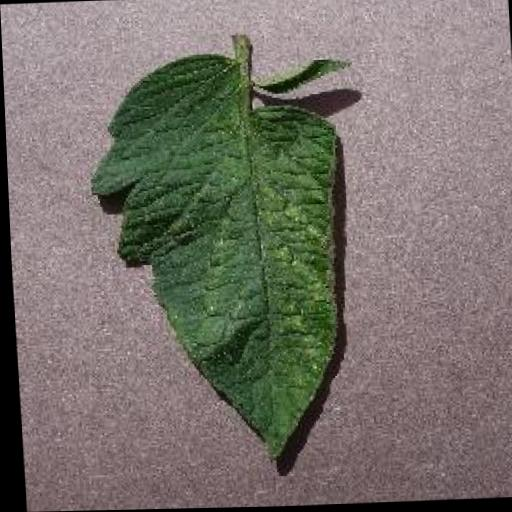Spider Mites: (84, 51, 355, 467)
